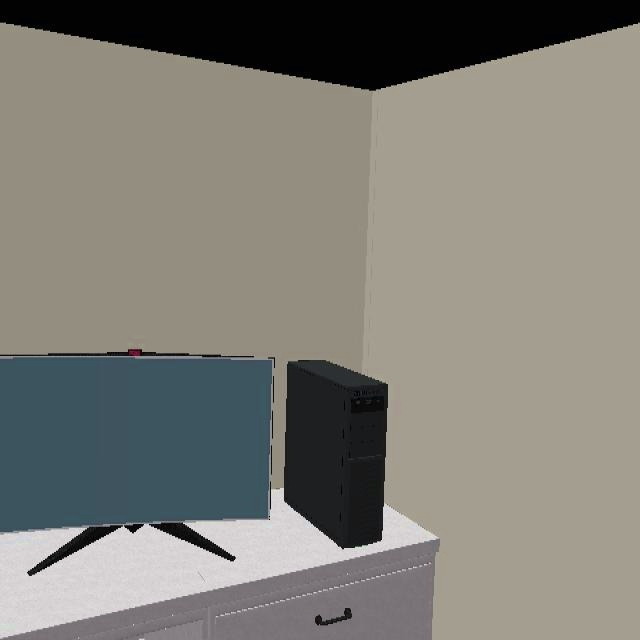monitor: (0, 355, 276, 535)
table: (0, 497, 437, 640)
